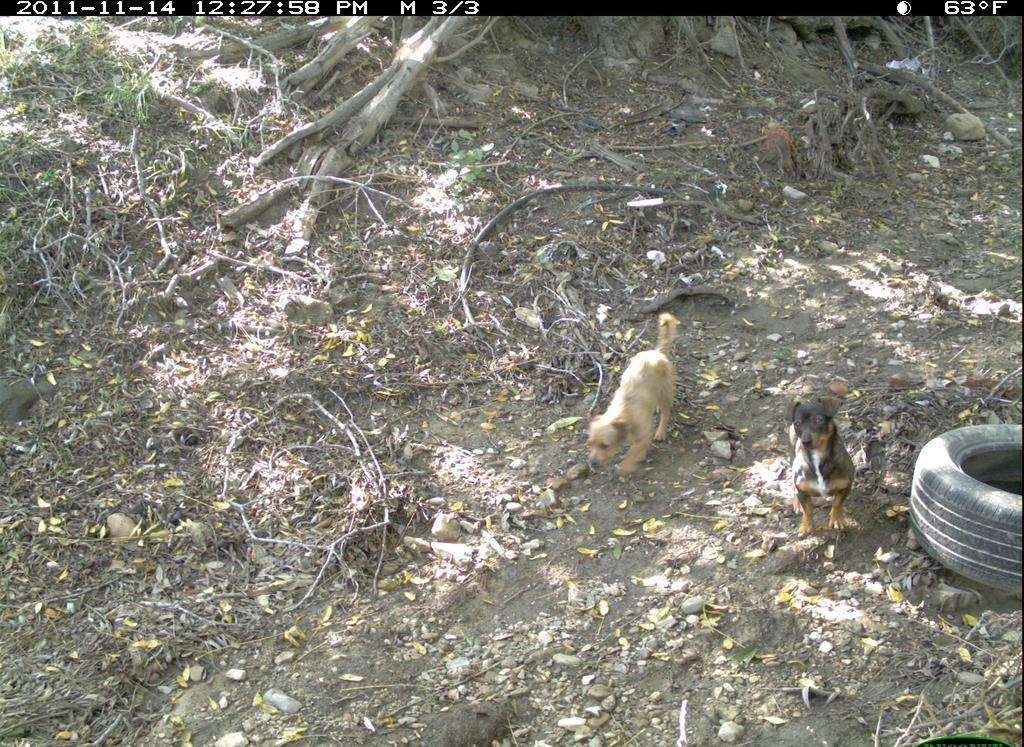dog: (581, 309, 683, 483), (784, 393, 858, 543)
